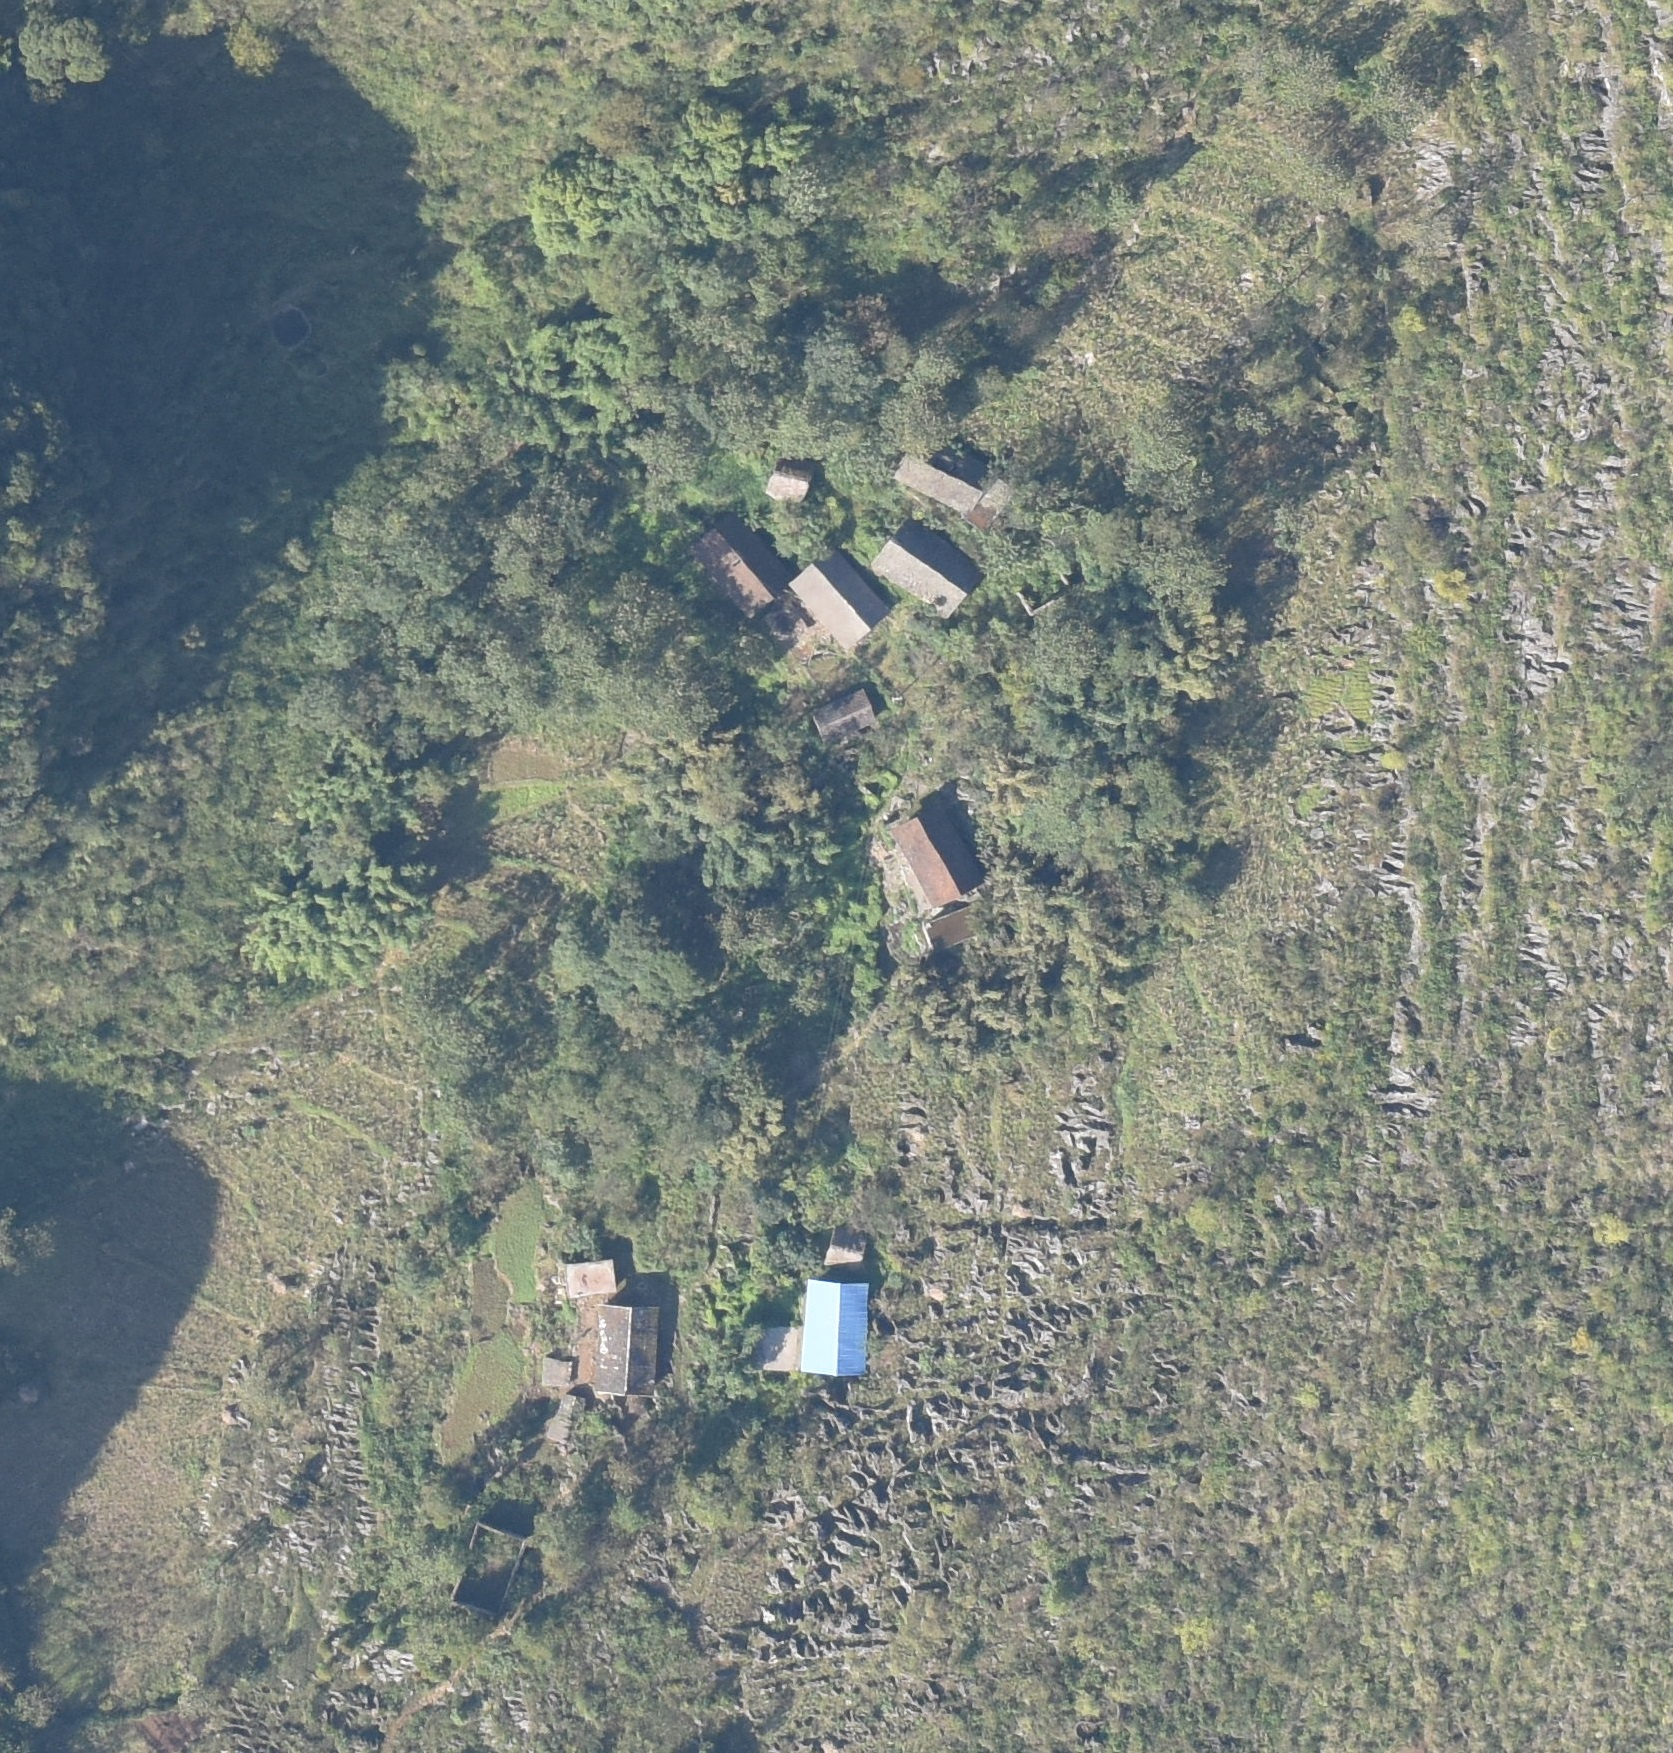building: (794, 552, 890, 648), (870, 526, 975, 613), (696, 518, 789, 614), (891, 809, 976, 903), (593, 1303, 661, 1396), (893, 452, 976, 510), (814, 685, 881, 743), (921, 905, 991, 953), (748, 1323, 803, 1371), (547, 1393, 589, 1445), (969, 476, 1009, 528), (561, 1260, 615, 1298), (819, 1226, 865, 1269), (765, 470, 812, 502), (541, 1356, 572, 1385)
prefabricated-house: (803, 1279, 865, 1375)
